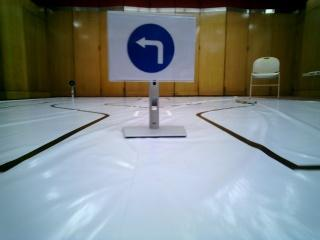left: (115, 19, 186, 74)
